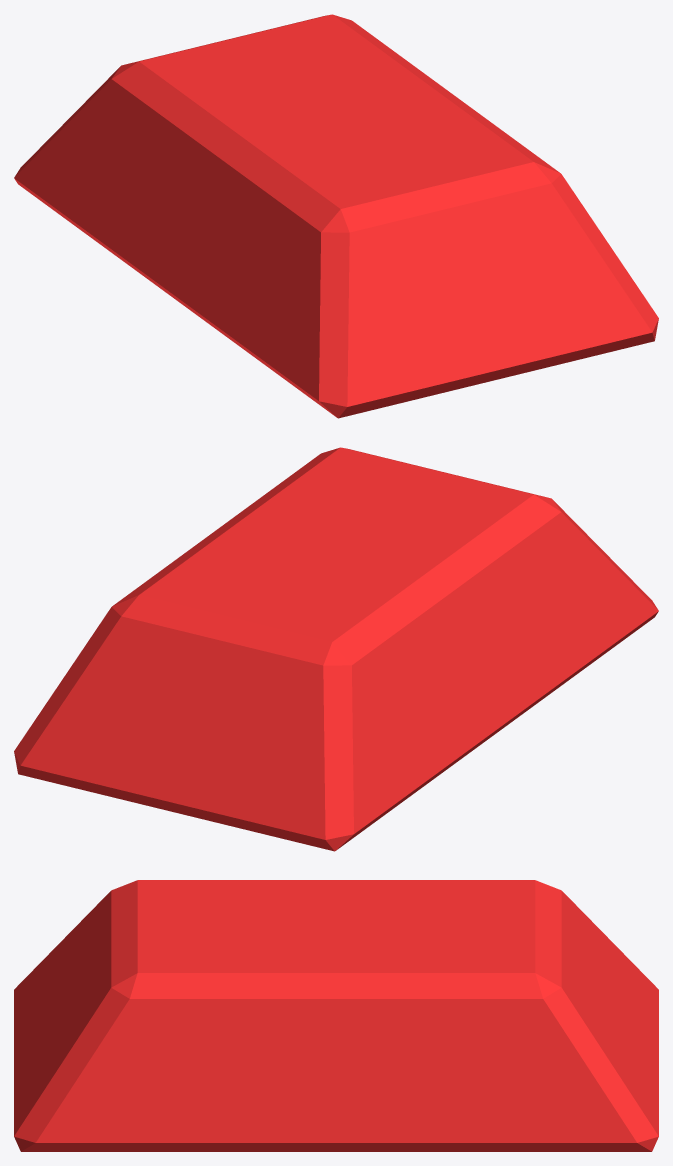
The model's file is Lingot.FBX.
3 renders of one model, top to bottom at view 1: azimuth 30°, elevation 25°; view 2: azimuth 150°, elevation 25°; view 3: azimuth 270°, elevation 25°, orthographic.
Parts seen in each view (by area): view 1: Box001; view 2: Box001; view 3: Box001.
Part boxes in pixels (x1,y1,x2,y2): Box001: [14, 14, 658, 418]; Box001: [14, 447, 658, 851]; Box001: [14, 880, 658, 1151].
Size of the model in its own units: 3.8 by 1.61 by 6.33.
